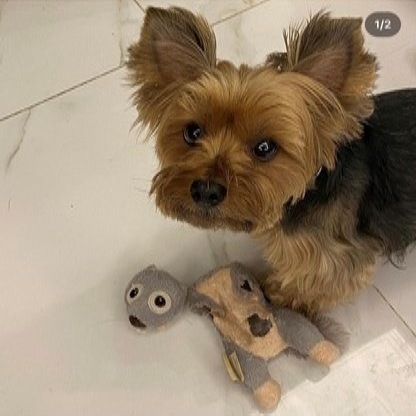yorkshire: (127, 3, 416, 318)
